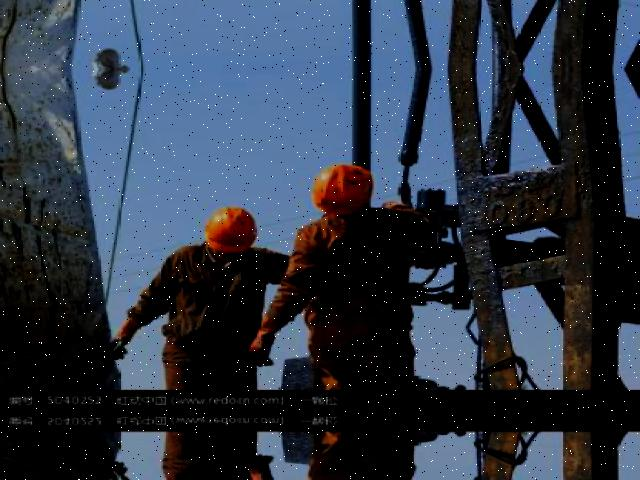Helmet: (305, 160, 375, 221), (198, 200, 259, 257)
